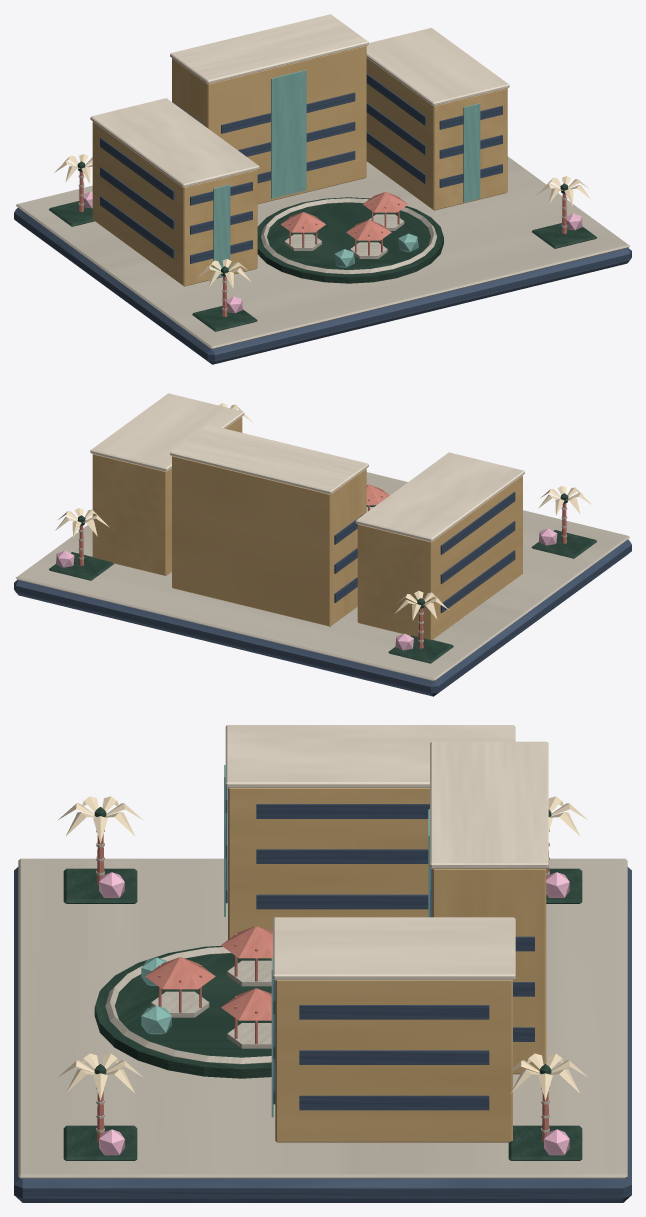
Rendered from german-university-diorama.glb.
The picture shows the model from 3 angles, top to bottom: view 1: azimuth 30°, elevation 25°; view 2: azimuth 150°, elevation 25°; view 3: azimuth 270°, elevation 25°; orthographic projection. The views are drawn at different scales.
Parts seen in each view (by area): view 1: german-university; view 2: german-university; view 3: german-university.
Part boxes in pixels (x1,y1,x2,y2): german-university: [14, 14, 631, 364]; german-university: [14, 393, 631, 696]; german-university: [14, 725, 631, 1202].
Bounding box in the file's own units: 16 × 5.65 × 13.
1 material, 1 textured.
